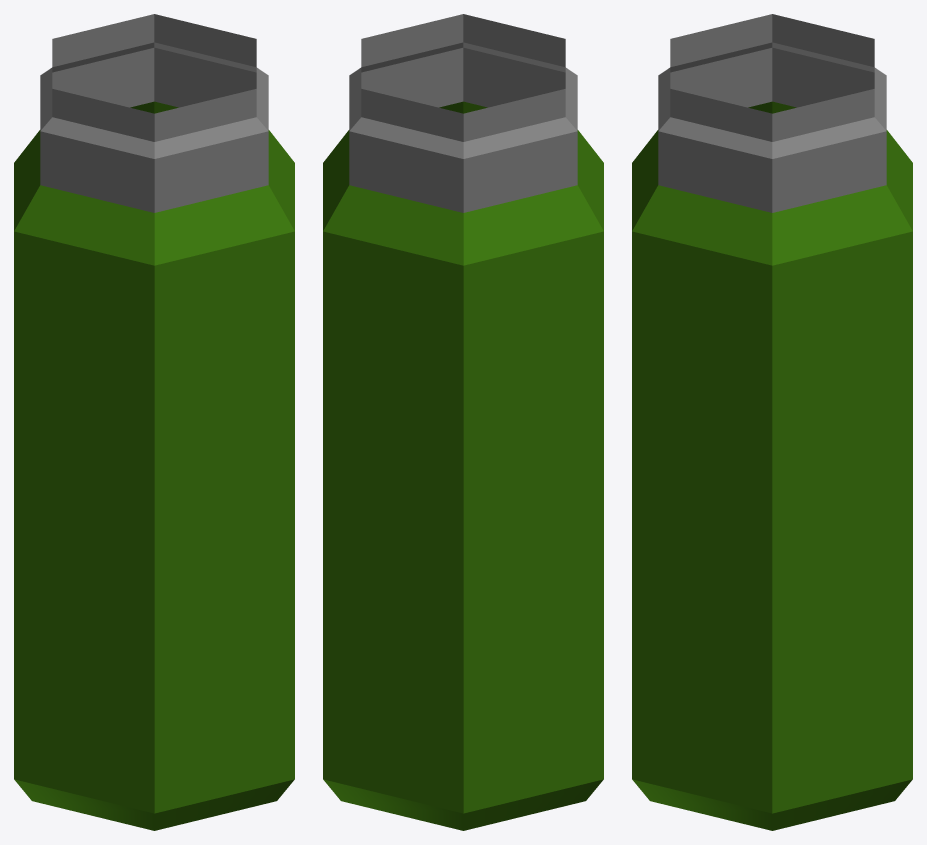
Rendered from waterbottle.fbx.
3 renders of one model, left to right at view 1: azimuth 30°, elevation 25°; view 2: azimuth 150°, elevation 25°; view 3: azimuth 270°, elevation 25°, orthographic.
Visible parts, largest first — view 1: Cylinder005; view 2: Cylinder005; view 3: Cylinder005.
Part boxes in pixels (left/top/right/bottom): Cylinder005: left=14, top=14, right=294, bottom=830; Cylinder005: left=323, top=14, right=603, bottom=830; Cylinder005: left=632, top=14, right=912, bottom=830.
Size of the model in its own units: 30.91 by 74.38 by 26.77.
